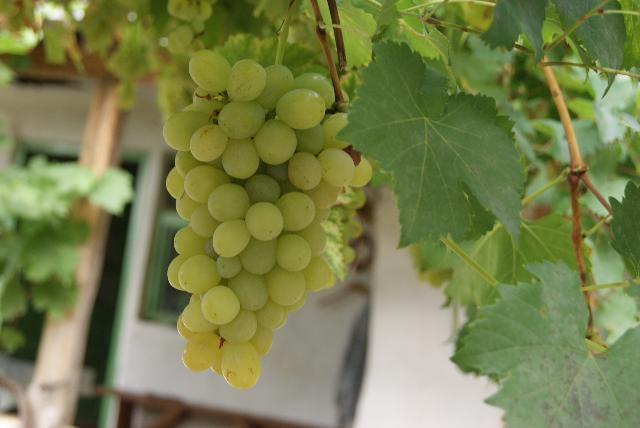grapes: (164, 50, 371, 389)
